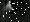person: (6, 1, 16, 15)
